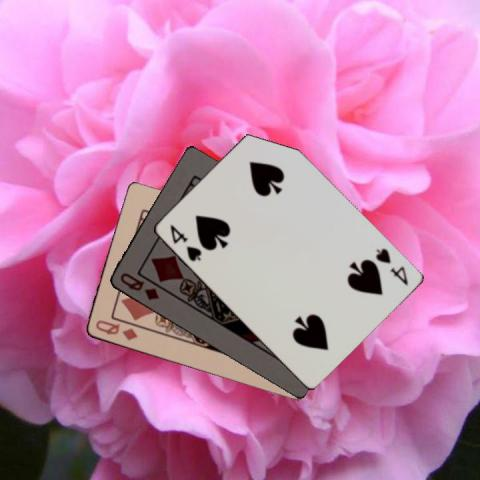4s: (372, 245, 409, 287), (167, 222, 202, 264)
Qd: (116, 269, 161, 302), (92, 317, 139, 343)
